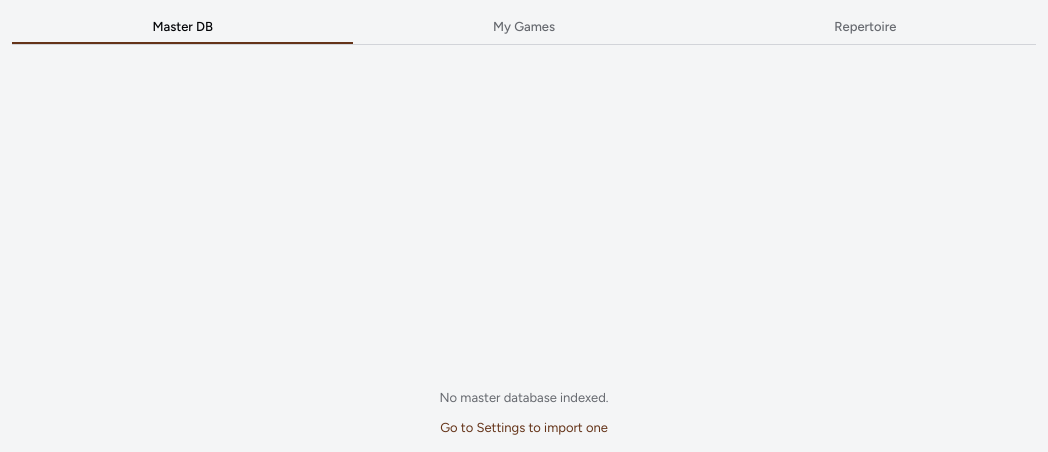
Test: ExplorerPanelContent › switches to Repertoire tab and shows empty state when no repertoires cover position
What coordinates should you click on to do the following:
click the button "Repertoire"
I would click on:
 (865, 28)
Its box is [695,12,1036,44].
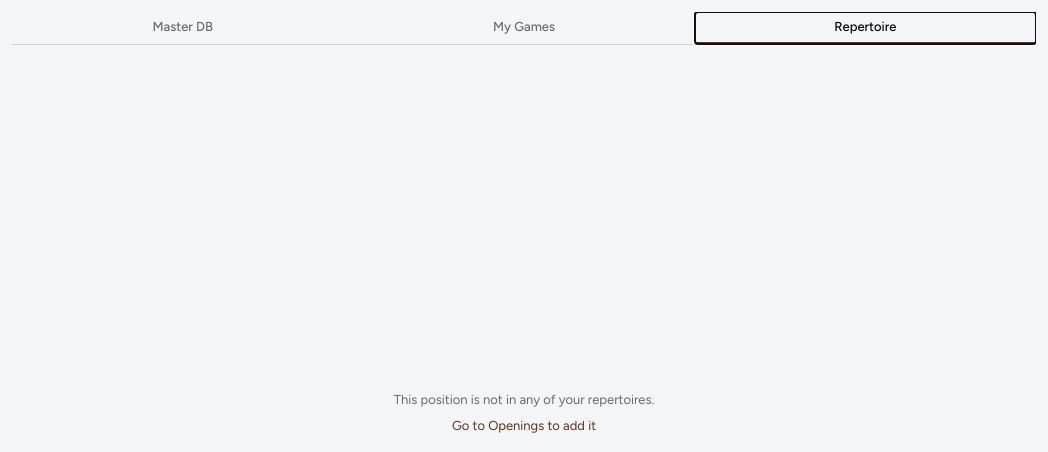
Expected: the text "This position is not in any of your repertoires." is shown, [394,390,654,408]
